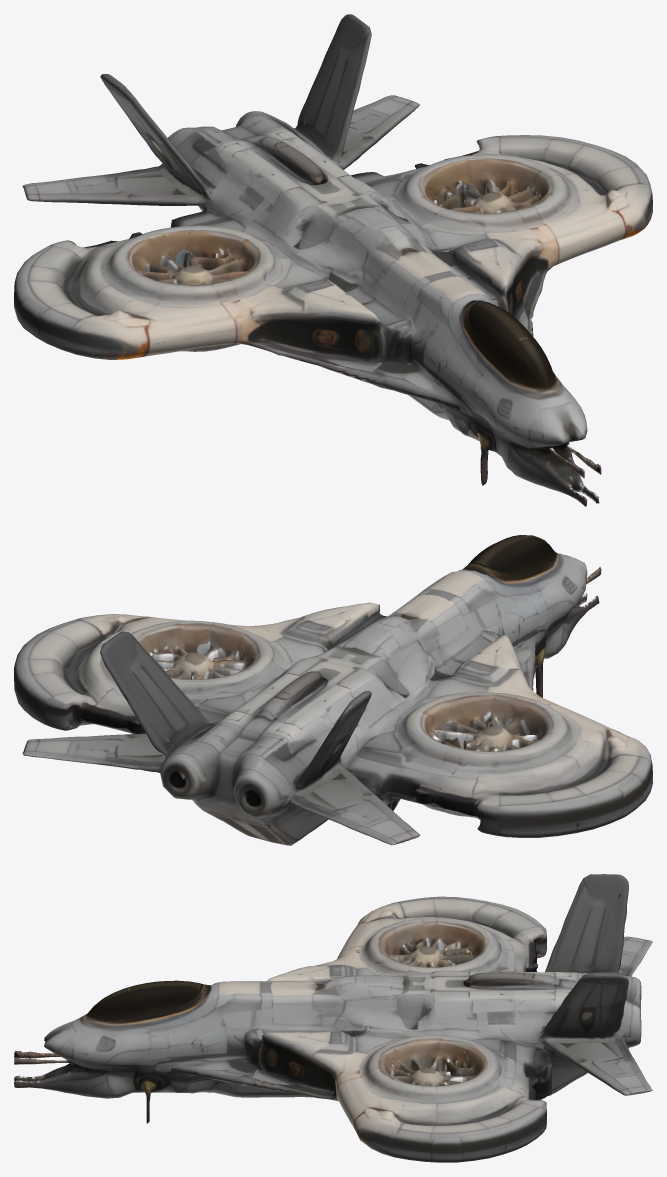
File: naves Enemiga 4 .fbx
3 renders of one model, top to bottom at view 1: azimuth 30°, elevation 25°; view 2: azimuth 150°, elevation 25°; view 3: azimuth 270°, elevation 25°, orthographic. The views are drawn at different scales.
Visible parts, largest first — view 1: nave enemiga 4, nave enemiga 4_cell.034, nave enemiga 4_cell.093, nave enemiga 4_cell.023, nave enemiga 4_cell.027, nave enemiga 4_cell.097, nave enemiga 4_cell.025, nave enemiga 4_cell.050, nave enemiga 4_cell.012, nave enemiga 4_cell.019, nave enemiga 4_cell.056, nave enemiga 4_cell.076 (+15 smaller); view 2: nave enemiga 4, nave enemiga 4_cell.034, nave enemiga 4_cell.093, nave enemiga 4_cell.050, nave enemiga 4_cell.076, nave enemiga 4_cell.075, nave enemiga 4_cell.060, nave enemiga 4_cell.097, nave enemiga 4_cell.025, nave enemiga 4_cell.122, nave enemiga 4_cell.066, nave enemiga 4_cell.023 (+23 smaller); view 3: nave enemiga 4, nave enemiga 4_cell.025, nave enemiga 4_cell.013, nave enemiga 4_cell.085, nave enemiga 4_cell.076, nave enemiga 4_cell.050, nave enemiga 4_cell.062, nave enemiga 4_cell.023, nave enemiga 4_cell.097, nave enemiga 4_cell.077, nave enemiga 4_cell.015, nave enemiga 4_cell.093 (+24 smaller).
Boxes of the visible parts, x1=… form: nave enemiga 4: x1=14, y1=14, x2=651, y2=506; nave enemiga 4_cell.034: x1=271, y1=213, x2=395, y2=297; nave enemiga 4_cell.093: x1=474, y1=310, x2=572, y2=416; nave enemiga 4_cell.023: x1=524, y1=176, x2=649, y2=250; nave enemiga 4_cell.027: x1=145, y1=289, x2=238, y2=346; nave enemiga 4_cell.097: x1=374, y1=212, x2=543, y2=299; nave enemiga 4_cell.025: x1=406, y1=255, x2=537, y2=336; nave enemiga 4_cell.050: x1=259, y1=149, x2=393, y2=220; nave enemiga 4_cell.012: x1=28, y1=293, x2=102, y2=359; nave enemiga 4_cell.019: x1=510, y1=211, x2=587, y2=274; nave enemiga 4_cell.056: x1=309, y1=259, x2=432, y2=380; nave enemiga 4_cell.076: x1=513, y1=135, x2=652, y2=228; nave enemiga 4: x1=14, y1=536, x2=652, y2=845; nave enemiga 4_cell.034: x1=367, y1=621, x2=495, y2=711; nave enemiga 4_cell.093: x1=487, y1=535, x2=572, y2=609; nave enemiga 4_cell.050: x1=265, y1=636, x2=381, y2=714; nave enemiga 4_cell.076: x1=14, y1=617, x2=108, y2=716; nave enemiga 4_cell.075: x1=437, y1=797, x2=534, y2=837; nave enemiga 4_cell.060: x1=192, y1=799, x2=313, y2=845; nave enemiga 4_cell.097: x1=260, y1=610, x2=423, y2=657; nave enemiga 4_cell.025: x1=323, y1=558, x2=481, y2=630; nave enemiga 4_cell.122: x1=48, y1=734, x2=141, y2=769; nave enemiga 4_cell.066: x1=504, y1=698, x2=570, y2=747; nave enemiga 4_cell.023: x1=98, y1=614, x2=185, y2=658; nave enemiga 4: x1=14, y1=874, x2=652, y2=1162; nave enemiga 4_cell.025: x1=186, y1=981, x2=307, y2=1097; nave enemiga 4_cell.013: x1=81, y1=1018, x2=204, y2=1123; nave enemiga 4_cell.085: x1=498, y1=972, x2=624, y2=1060; nave enemiga 4_cell.076: x1=369, y1=1109, x2=541, y2=1162; nave enemiga 4_cell.050: x1=384, y1=970, x2=518, y2=1036; nave enemiga 4_cell.062: x1=561, y1=874, x2=626, y2=939; nave enemiga 4_cell.023: x1=343, y1=1077, x2=424, y2=1146; nave enemiga 4_cell.097: x1=305, y1=977, x2=397, y2=1097; nave enemiga 4_cell.077: x1=44, y1=1022, x2=88, y2=1089; nave enemiga 4_cell.015: x1=421, y1=1080, x2=495, y2=1110; nave enemiga 4_cell.093: x1=77, y1=980, x2=193, y2=1038.
Bounding box in the file's own units: 172 × 61.68 × 190.
